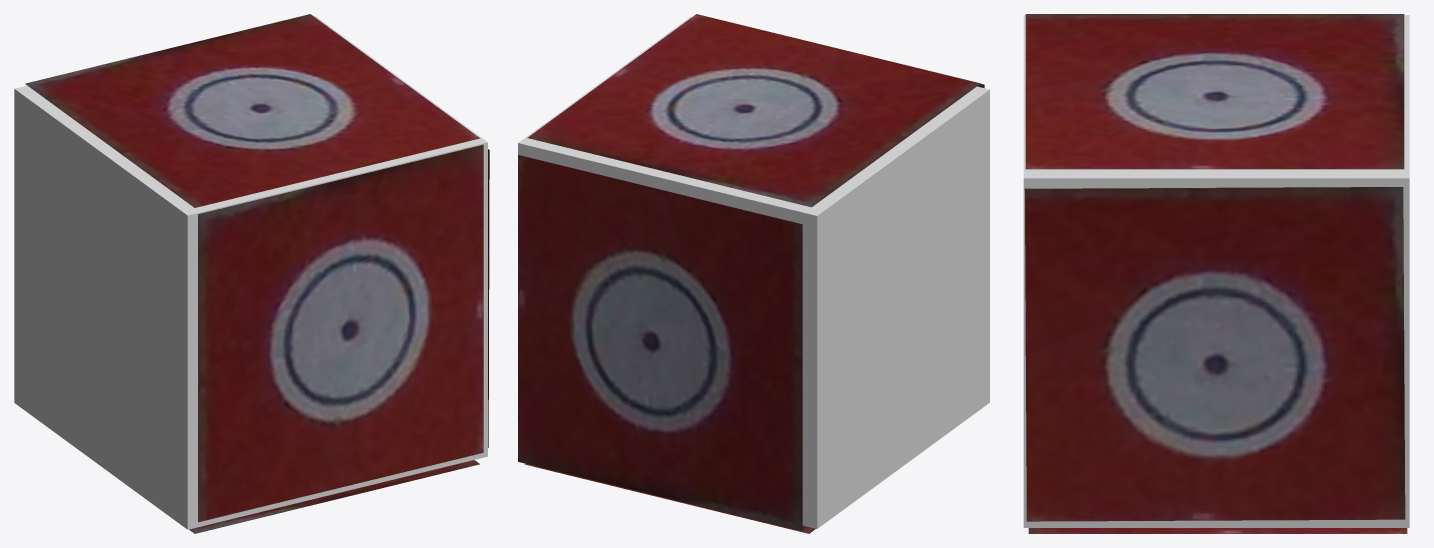
3 renders of one model, left to right at view 1: azimuth 30°, elevation 25°; view 2: azimuth 150°, elevation 25°; view 3: azimuth 270°, elevation 25°, orthographic. The views are drawn at different scales.
Visible parts, largest first — view 1: R1.002, Link29, R1.001, R1.003; view 2: R1.004, Link29, R1.001, R1.003; view 3: R1, R1.001, Link29, R1.003.
Boxes of the visible parts, x1,y1,x2,y2 form: R1.002: (198,144,483,522); Link29: (14,15,487,529); R1.001: (25,14,479,207); R1.003: (189,460,479,533); R1.004: (518,155,802,531); Link29: (518,16,989,528); R1.001: (527,14,980,207); R1.003: (525,464,815,533); R1: (1024,187,1405,521); R1.001: (1025,14,1404,169); Link29: (1023,15,1409,527); R1.003: (1028,528,1407,533).
Size of the model in its own units: 0.3524 by 0.3641 by 0.3644.
1 material, 1 textured.
